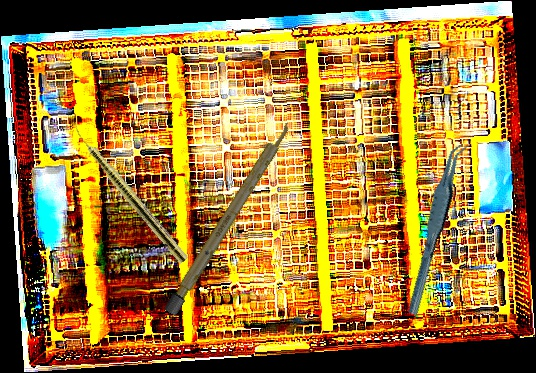Handpiece: (65, 119, 191, 265)
Scalpel Handle: (163, 119, 294, 317)
Tissue Forceps: (387, 140, 485, 317)
